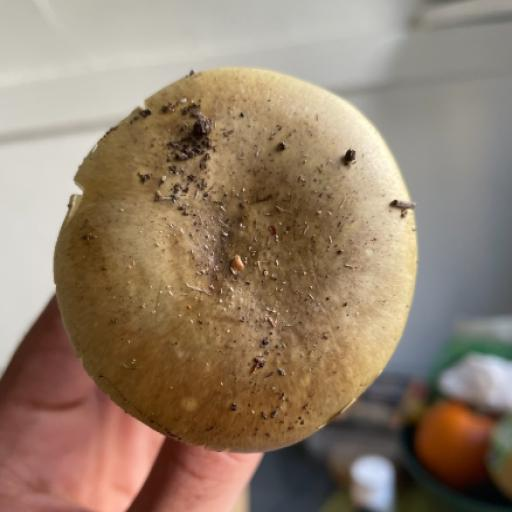Death Cap: (0, 3, 493, 510)
